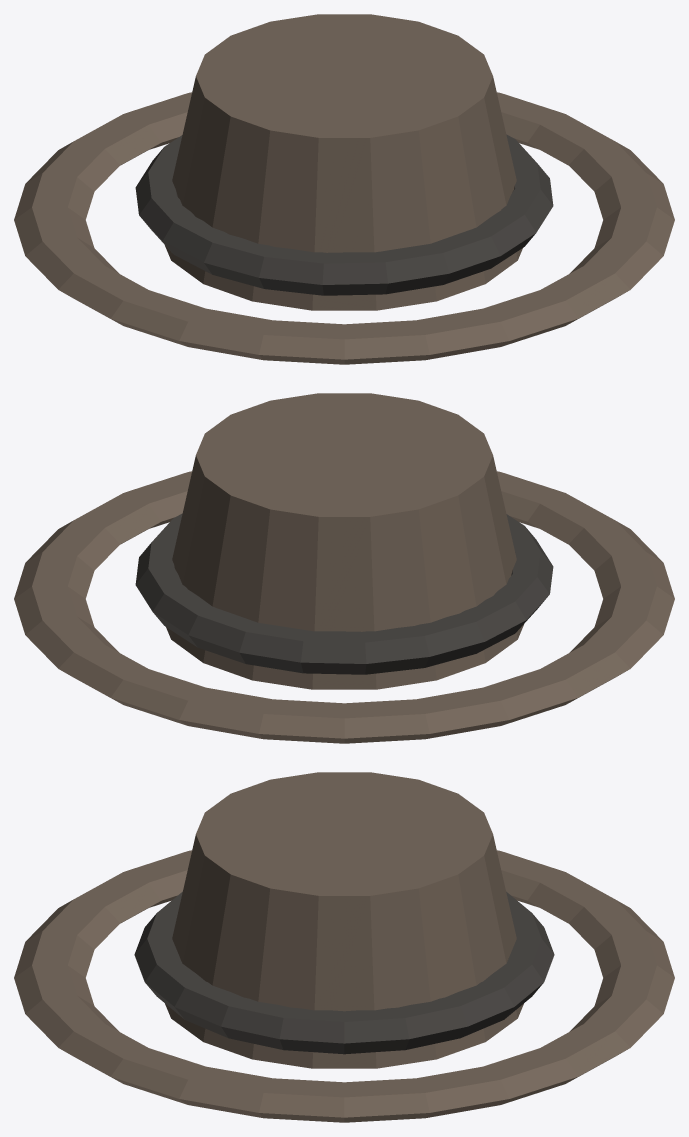
The model's file is WideHat.fbx.
The picture shows the model from 3 angles, top to bottom: view 1: azimuth 30°, elevation 25°; view 2: azimuth 150°, elevation 25°; view 3: azimuth 270°, elevation 25°; orthographic projection.
Parts seen in each view (by area): view 1: WideHat; view 2: WideHat; view 3: WideHat.
Boxes of the visible parts, x1,y1,x2,y2 form: WideHat: [14, 14, 674, 364]; WideHat: [14, 393, 674, 743]; WideHat: [14, 772, 674, 1122].
Size of the model in its own units: 25.8 by 6.8 by 25.8.
